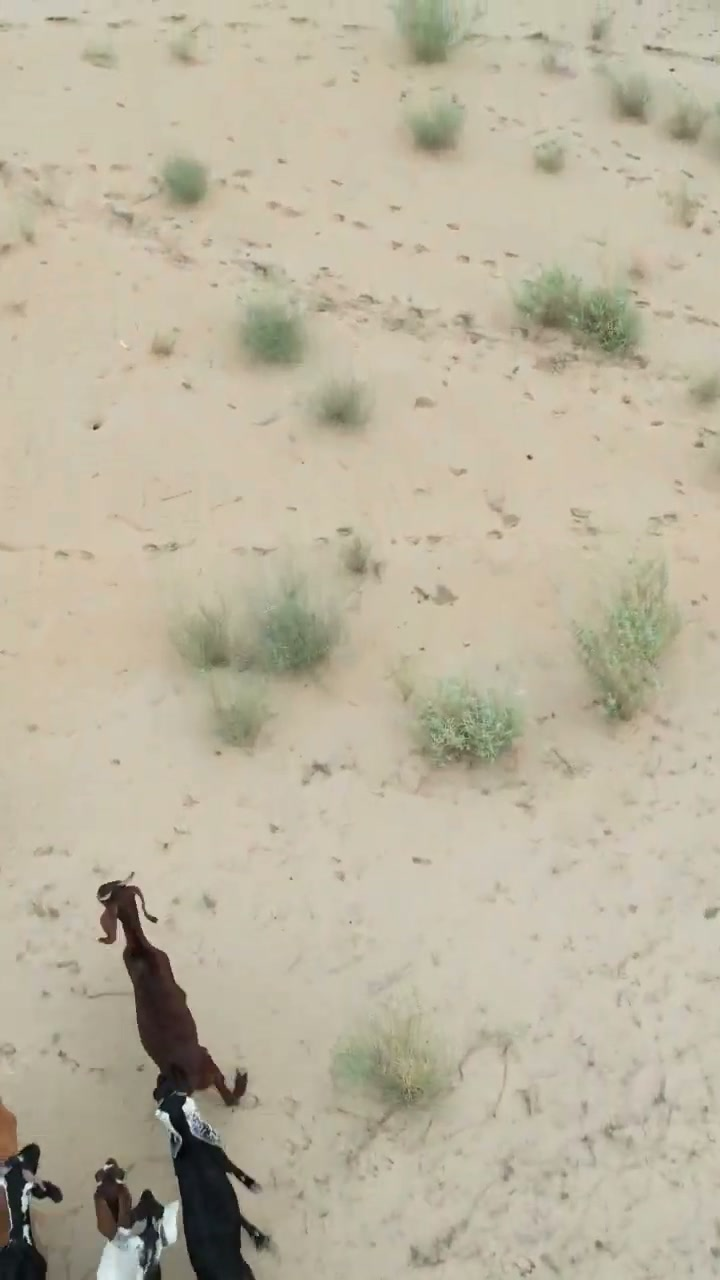animal_foot_print: (18, 1013, 161, 1150)
